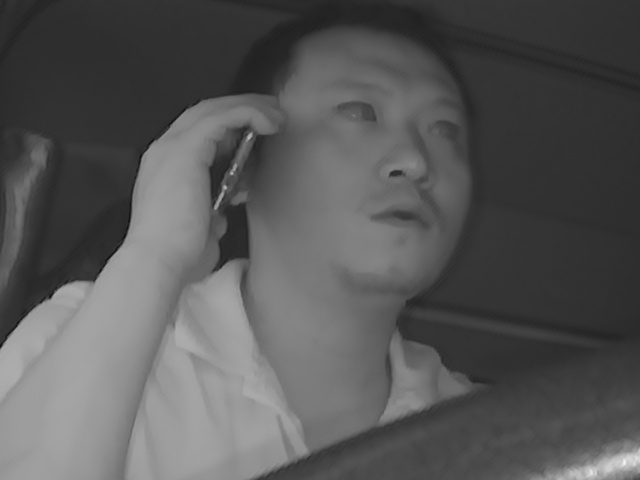hand: (135, 87, 268, 266)
